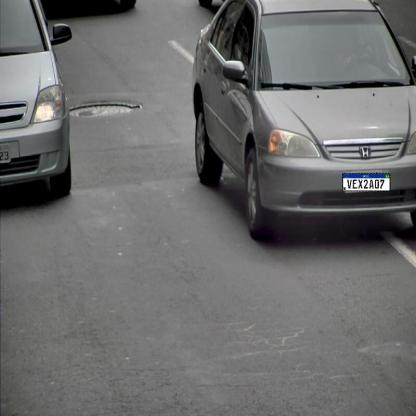PlacaM: (342, 174, 391, 192)
